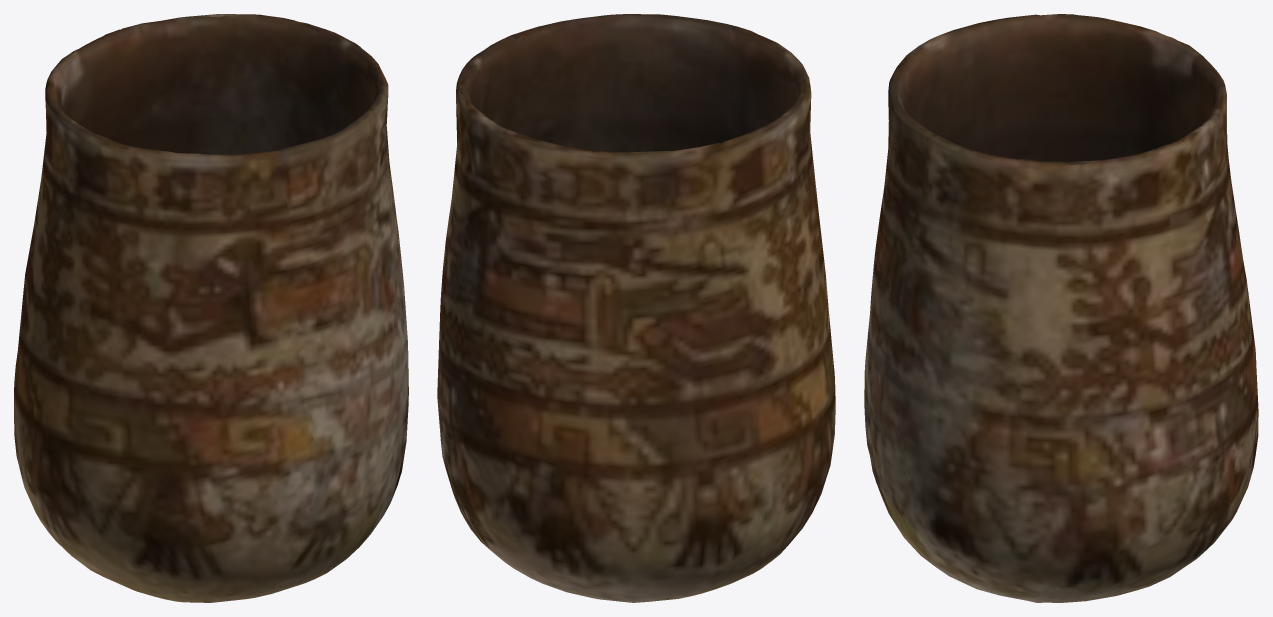
File: cma-nasca-painted-vase.lod1.glb
3 views of the same model, side by side, from view 1: azimuth 30°, elevation 25°; view 2: azimuth 150°, elevation 25°; view 3: azimuth 270°, elevation 25° (orthographic).
Parts seen in each view (by area): view 1: 1930.728_vase_with_trophy-heads_and_warriors; view 2: 1930.728_vase_with_trophy-heads_and_warriors; view 3: 1930.728_vase_with_trophy-heads_and_warriors.
Boxes of the visible parts, x1,y1,x2,y2 form: 1930.728_vase_with_trophy-heads_and_warriors: (14,14,408,602); 1930.728_vase_with_trophy-heads_and_warriors: (437,14,835,602); 1930.728_vase_with_trophy-heads_and_warriors: (864,14,1258,602).
Bounding box in the file's own units: 0.1416 × 0.1938 × 0.1403.
1 material, 1 textured.
